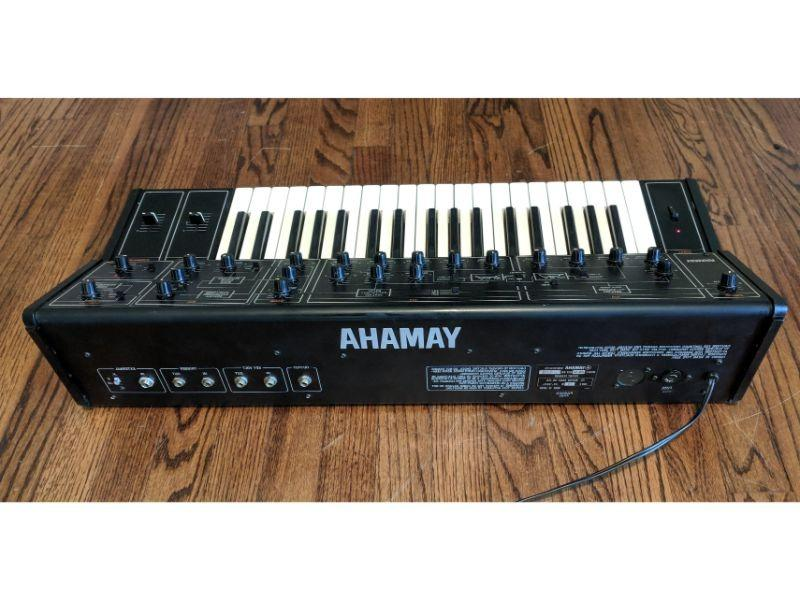synthesizer: (35, 169, 785, 406)
